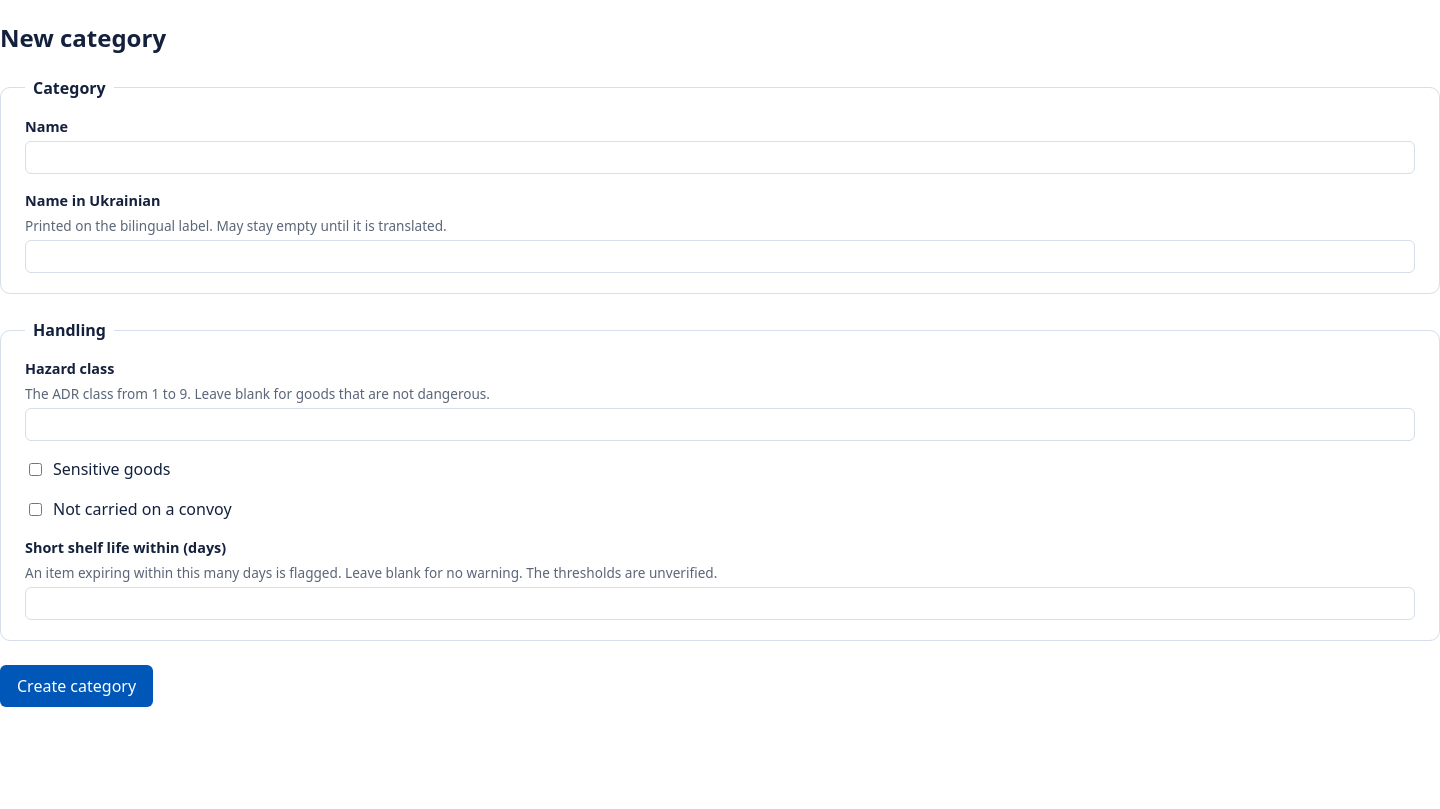
Test: creates a category and lands on its page to map the codes
Type "Bedding" into the field labelled "Name". click: [720, 158]
box: [25,141,1415,174]
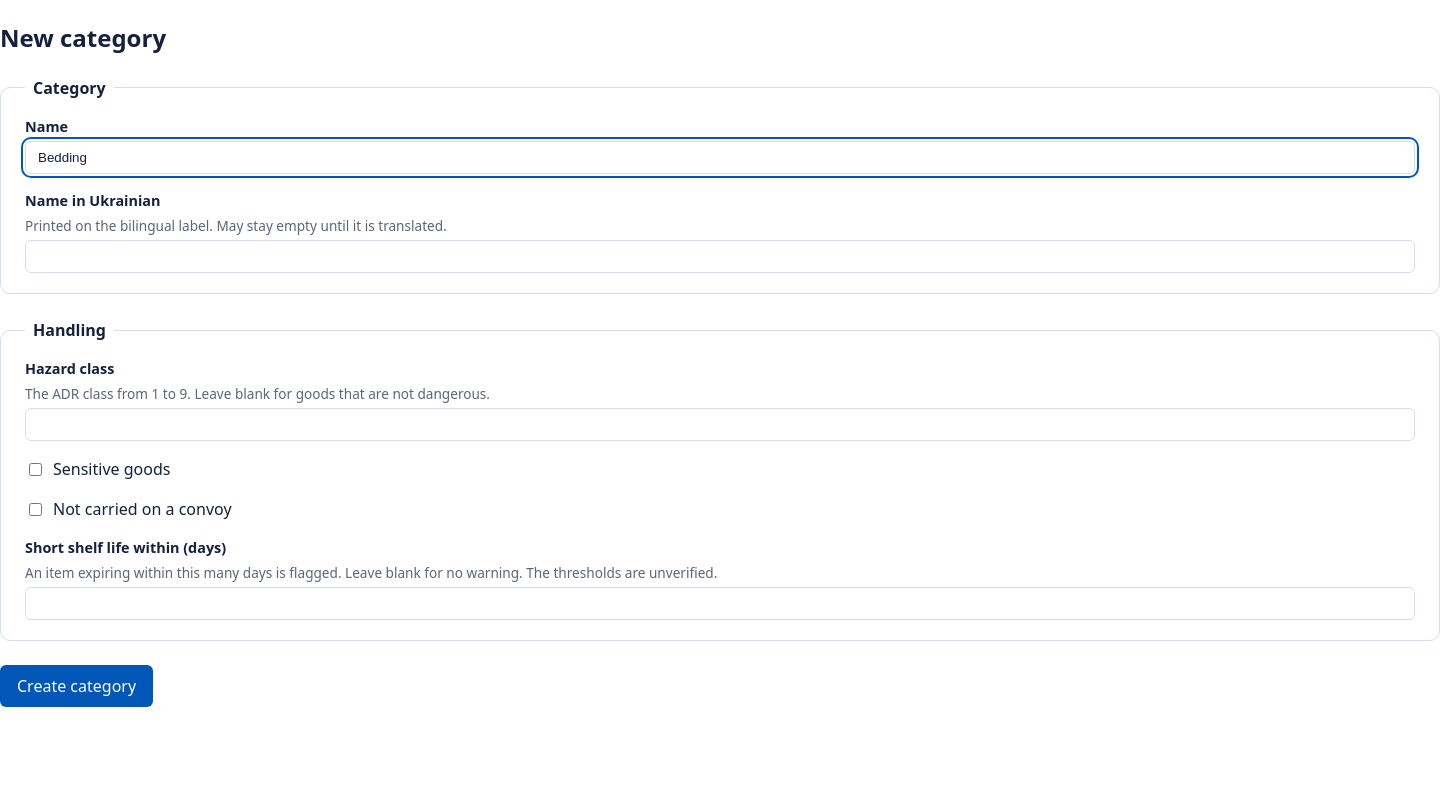
Type "90" into the field labelled "Short shelf life within (days)". click: [720, 604]
box: [25,587,1415,620]
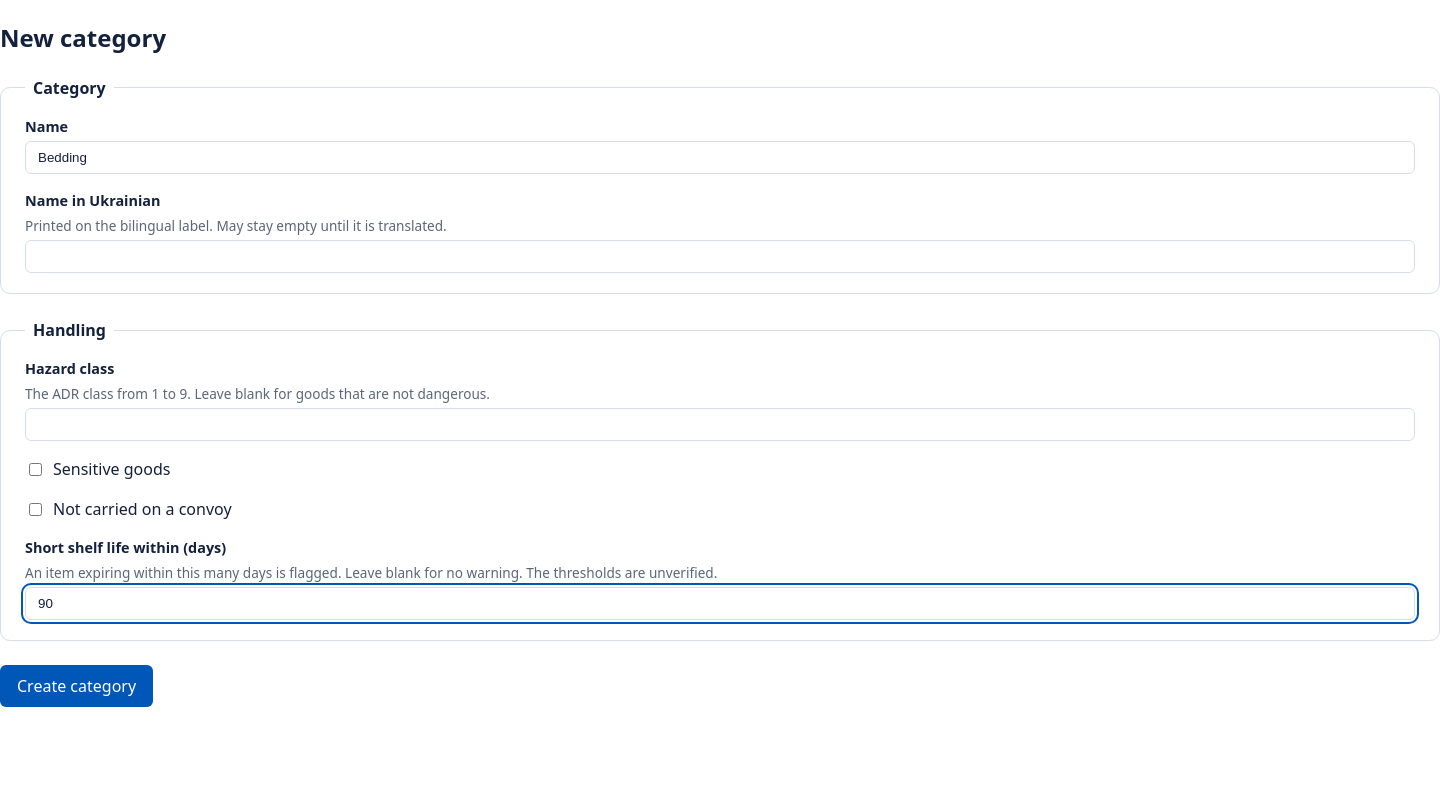
Click the button "Create category". click: [77, 686]
box: [0,665,153,707]
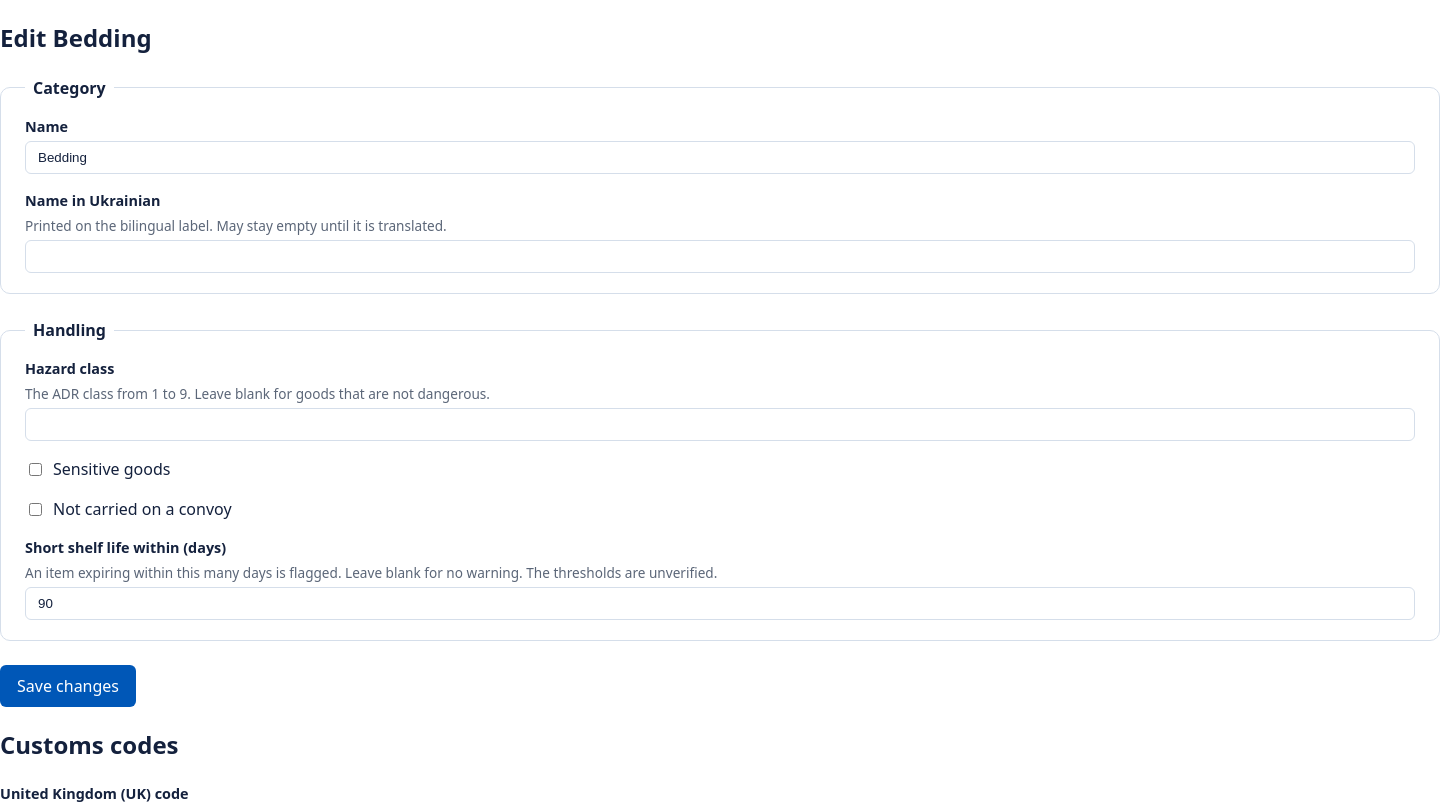
Check: the heading "Edit Bedding" is shown, box [0,21,152,54]
